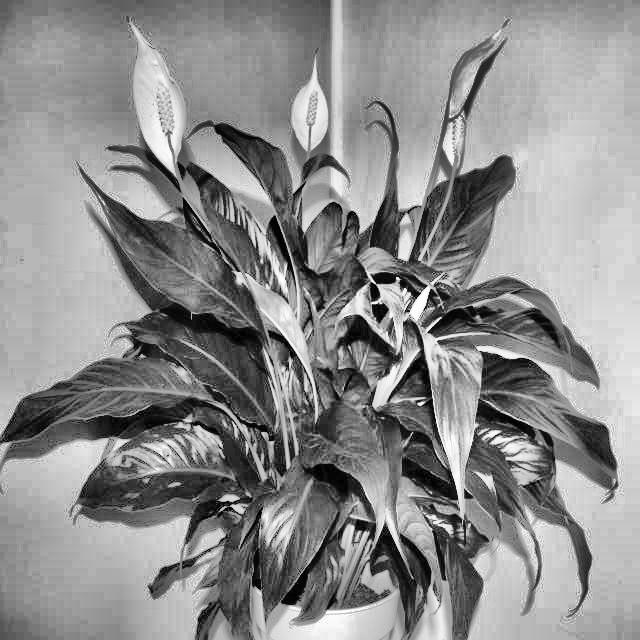plants: (94, 61, 596, 584)
